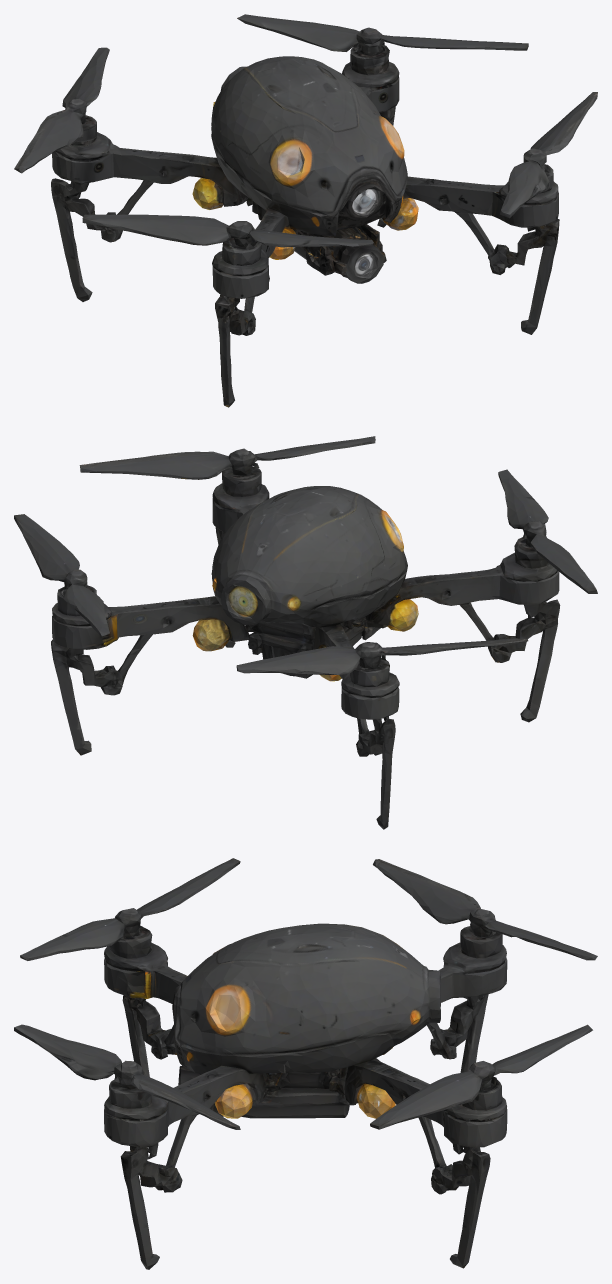
File: Collectororb_drone_wi_0603161302_texture.fbx
3 renders of one model, top to bottom at view 1: azimuth 30°, elevation 25°; view 2: azimuth 150°, elevation 25°; view 3: azimuth 270°, elevation 25°, orthographic. The views are drawn at different scales.
Visible parts, largest first — view 1: temp; view 2: temp; view 3: temp.
Part boxes in pixels (bbox=[...]): temp: bbox=[14, 14, 597, 407]; temp: bbox=[14, 436, 597, 829]; temp: bbox=[14, 858, 597, 1269].
Size of the model in its own units: 199 by 89.99 by 183.
1 material, 1 textured.
